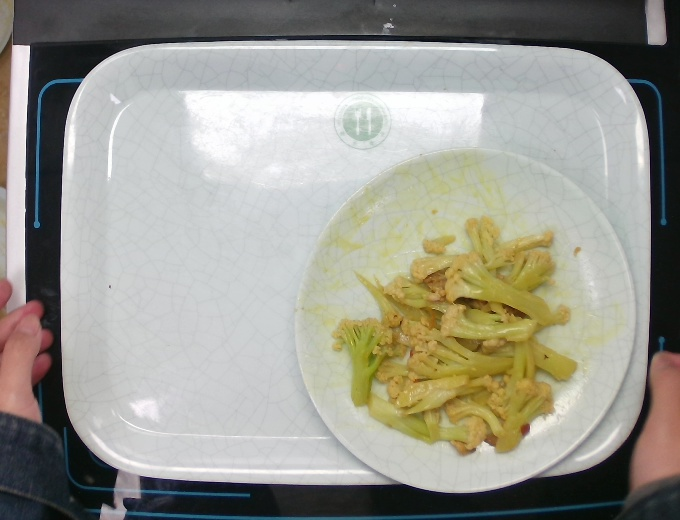JYsf-Da_Yuan_Pan: (293, 145, 639, 495)
